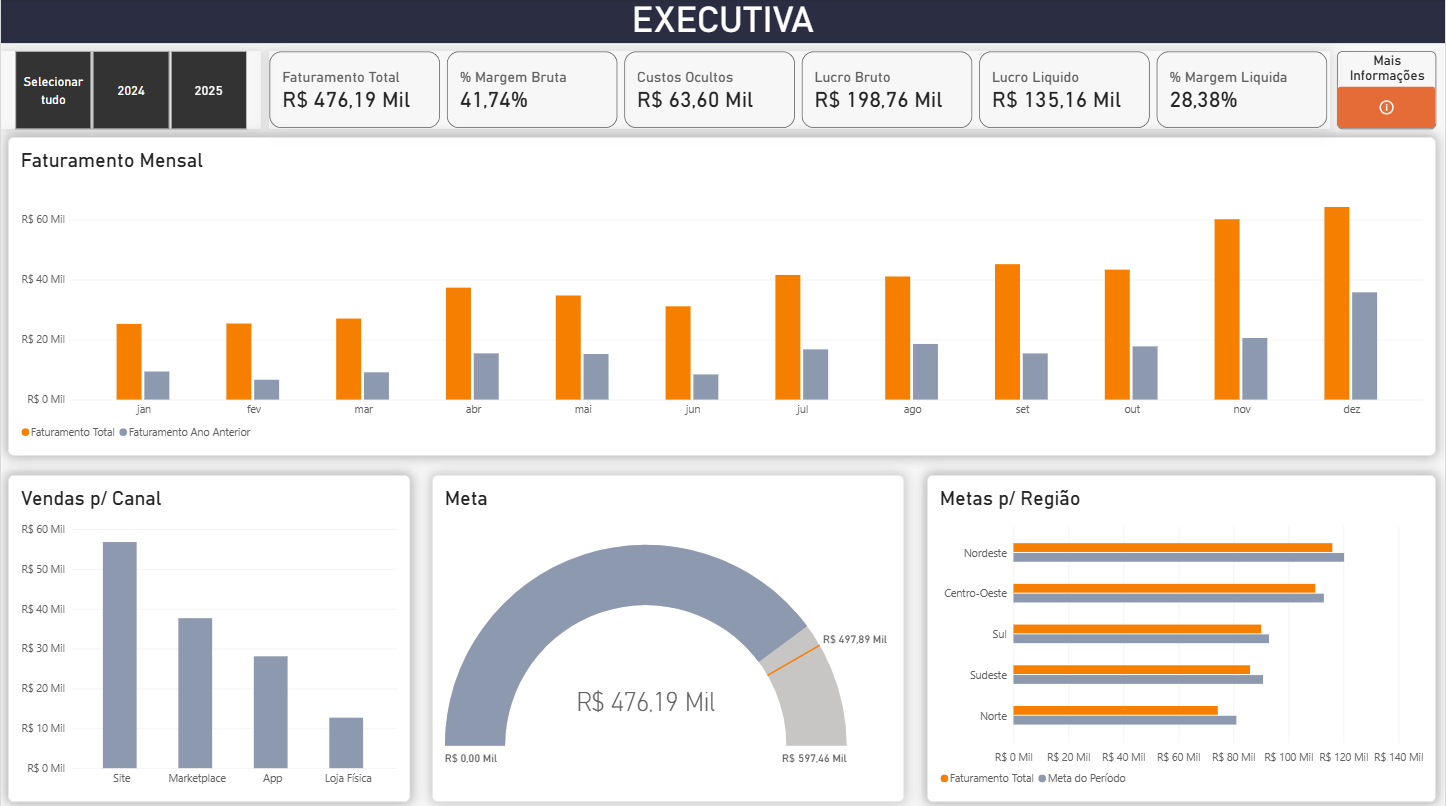

The page's visual inventory and layout, read from the dashboard file:
{"tool":"powerbi","page":{"name":"Executiva","canvas":[1920,1080],"ordinal":0},"visuals":[{"type":"slicer","title":"Ano Vigente","fields":{"Values":["dCalendario.Ano"]},"box":[0,70.5,345.8,103.7],"z":0},{"type":"clusteredColumnChart","title":"Faturamento Mensal","fields":{"Category":["dCalendario.Mês Nome"],"Y":["_Medidas.Faturamento Total","_Medidas.Faturamento Anual"]},"box":[9.3,184.9,1899.3,424.3],"z":1000},{"type":"cardVisual","fields":{"Data":["_Medidas.Faturamento Total","_Medidas.% Margem Bruta","_Medidas.Custos Ocultos","_Medidas.Lucro Operacional","_Medidas.Lucro Liquido","_Medidas.Margem Liquida"]},"box":[356.5,70.5,1411.2,103.7],"z":2000},{"type":"columnChart","title":"Vendas p/ Canal","fields":{"Category":["vendas_2anos.canal_venda"],"Y":["_Medidas.Lucro Liquido"]},"box":[9.3,634.4,534.7,434.9],"z":3000},{"type":"textbox","box":[0,0,1920.6,60],"z":4000},{"type":"clusteredBarChart","title":"Metas p/ Região","fields":{"Category":["dRegião.regiao"],"Y":["_Medidas.Faturamento Total","_Medidas.Meta do Período"]},"box":[1231.6,634.4,677,434.9],"z":5000},{"type":"gauge","title":"Meta","fields":{"MaxValue":["_Medidas.120% Meta"],"TargetValue":["_Medidas.Meta do Período"],"Y":["_Medidas.Faturamento Total"]},"box":[573.3,634.4,627.8,434.9],"z":6000},{"type":"actionButton","title":"Mais Informações","box":[1776.9,70.5,131.7,103.7],"z":7000}]}

Visuals, with their boxes in screenshot pixels (x1, y1, x2, y2), scaled from the page's 1920x1080 canvas onto the 1446x806 screenshot:
"Ano Vigente" slicer: pyautogui.locateOnScreen(0, 53, 260, 130)
"Faturamento Mensal" clusteredColumnChart: pyautogui.locateOnScreen(7, 138, 1437, 455)
cardVisual - _Medidas.Faturamento Total x _Medidas.% Margem Bruta: pyautogui.locateOnScreen(268, 53, 1331, 130)
"Vendas p/ Canal" columnChart: pyautogui.locateOnScreen(7, 473, 410, 798)
textbox: pyautogui.locateOnScreen(0, 0, 1445, 45)
"Metas p/ Região" clusteredBarChart: pyautogui.locateOnScreen(928, 473, 1437, 798)
"Meta" gauge: pyautogui.locateOnScreen(432, 473, 905, 798)
"Mais Informações" actionButton: pyautogui.locateOnScreen(1338, 53, 1437, 130)
